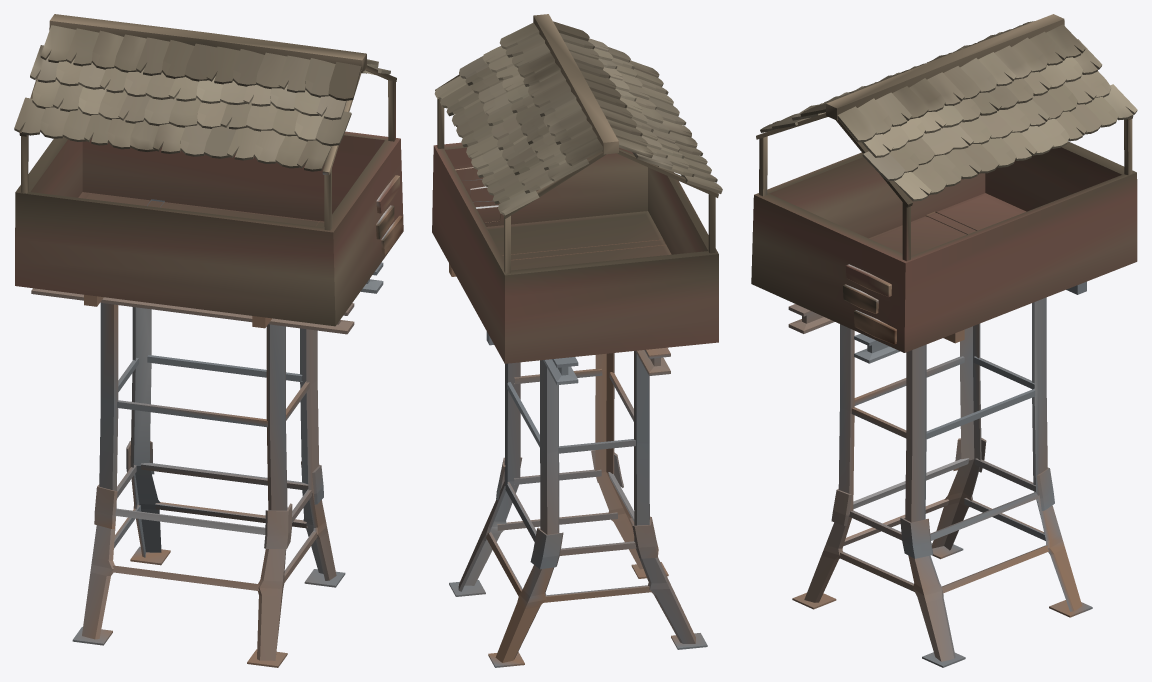
File: Command_posts - Copia.fbx
3 renders of one model, left to right at view 1: azimuth 30°, elevation 25°; view 2: azimuth 150°, elevation 25°; view 3: azimuth 270°, elevation 25°, orthographic. The views are drawn at different scales.
Parts seen in each view (by area): view 1: Commandposts_LOD0; view 2: Commandposts_LOD0; view 3: Commandposts_LOD0.
Part boxes in pixels (left/top/right/bottom): Commandposts_LOD0: left=14, top=14, right=403, bottom=667; Commandposts_LOD0: left=432, top=14, right=722, bottom=667; Commandposts_LOD0: left=751, top=14, right=1137, bottom=667.
Size of what is drawn, in the model's own units: 403 by 631 by 406.
